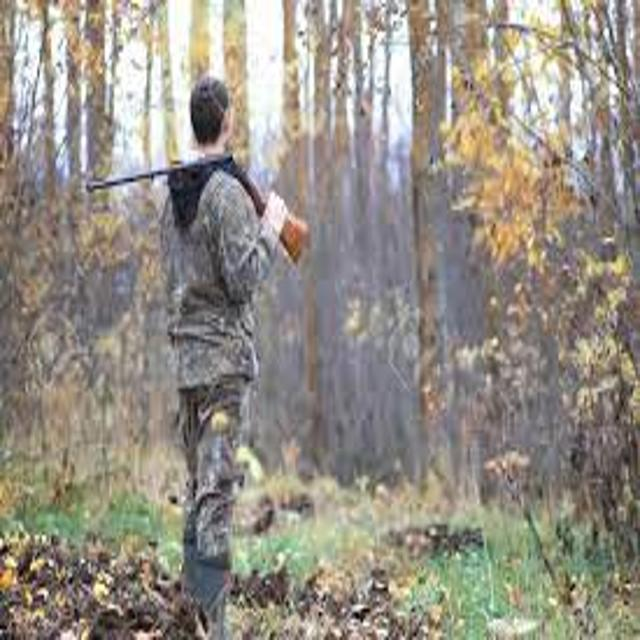gun: (66, 123, 342, 290)
poacher: (104, 49, 340, 633)
